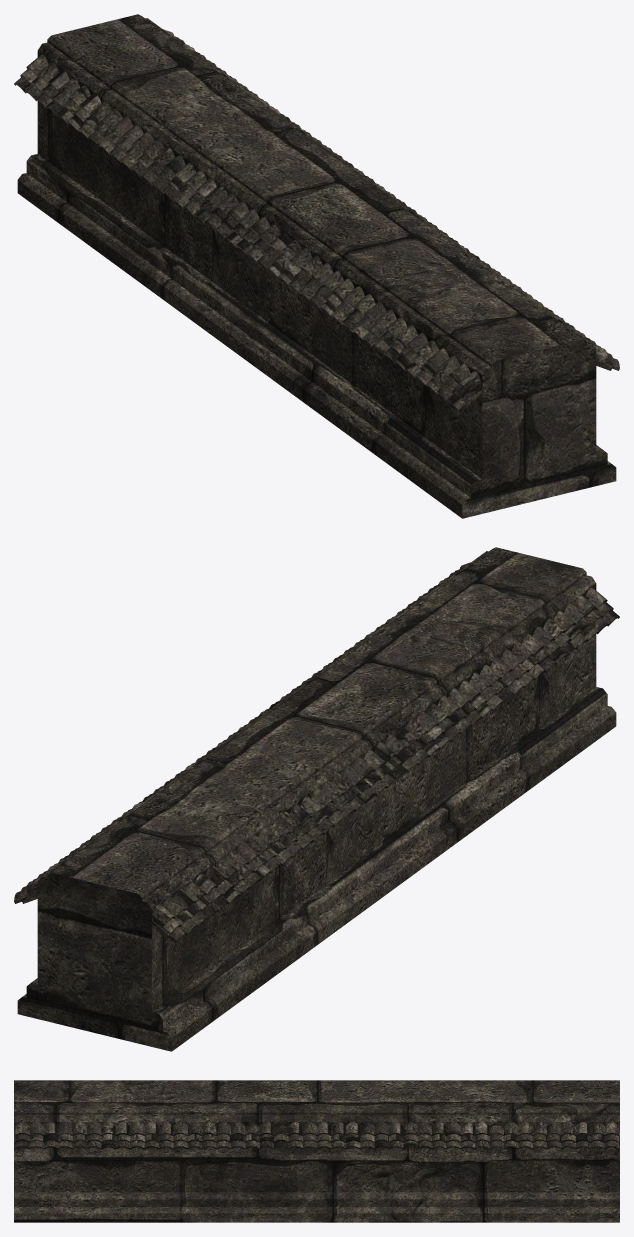
File: walltojump.fbx
The picture shows the model from 3 angles, top to bottom: view 1: azimuth 30°, elevation 25°; view 2: azimuth 150°, elevation 25°; view 3: azimuth 270°, elevation 25°; orthographic projection. The views are drawn at different scales.
Parts seen in each view (by area): view 1: wall, grabobject1, grabobject2; view 2: wall, grabobject1, grabobject2; view 3: wall, grabobject2.
Boxes of the visible parts, bbox=[...] form: wall: bbox=[17, 14, 616, 518]; grabobject1: bbox=[14, 54, 481, 409]; grabobject2: bbox=[163, 29, 619, 370]; wall: bbox=[17, 547, 616, 1051]; grabobject1: bbox=[152, 588, 619, 942]; grabobject2: bbox=[14, 562, 470, 903]; wall: bbox=[14, 1080, 619, 1222]; grabobject2: bbox=[14, 1122, 619, 1149].
Bounding box in the file's own units: 147 × 125 × 674.
Materials: 1 (1 with a texture image).
